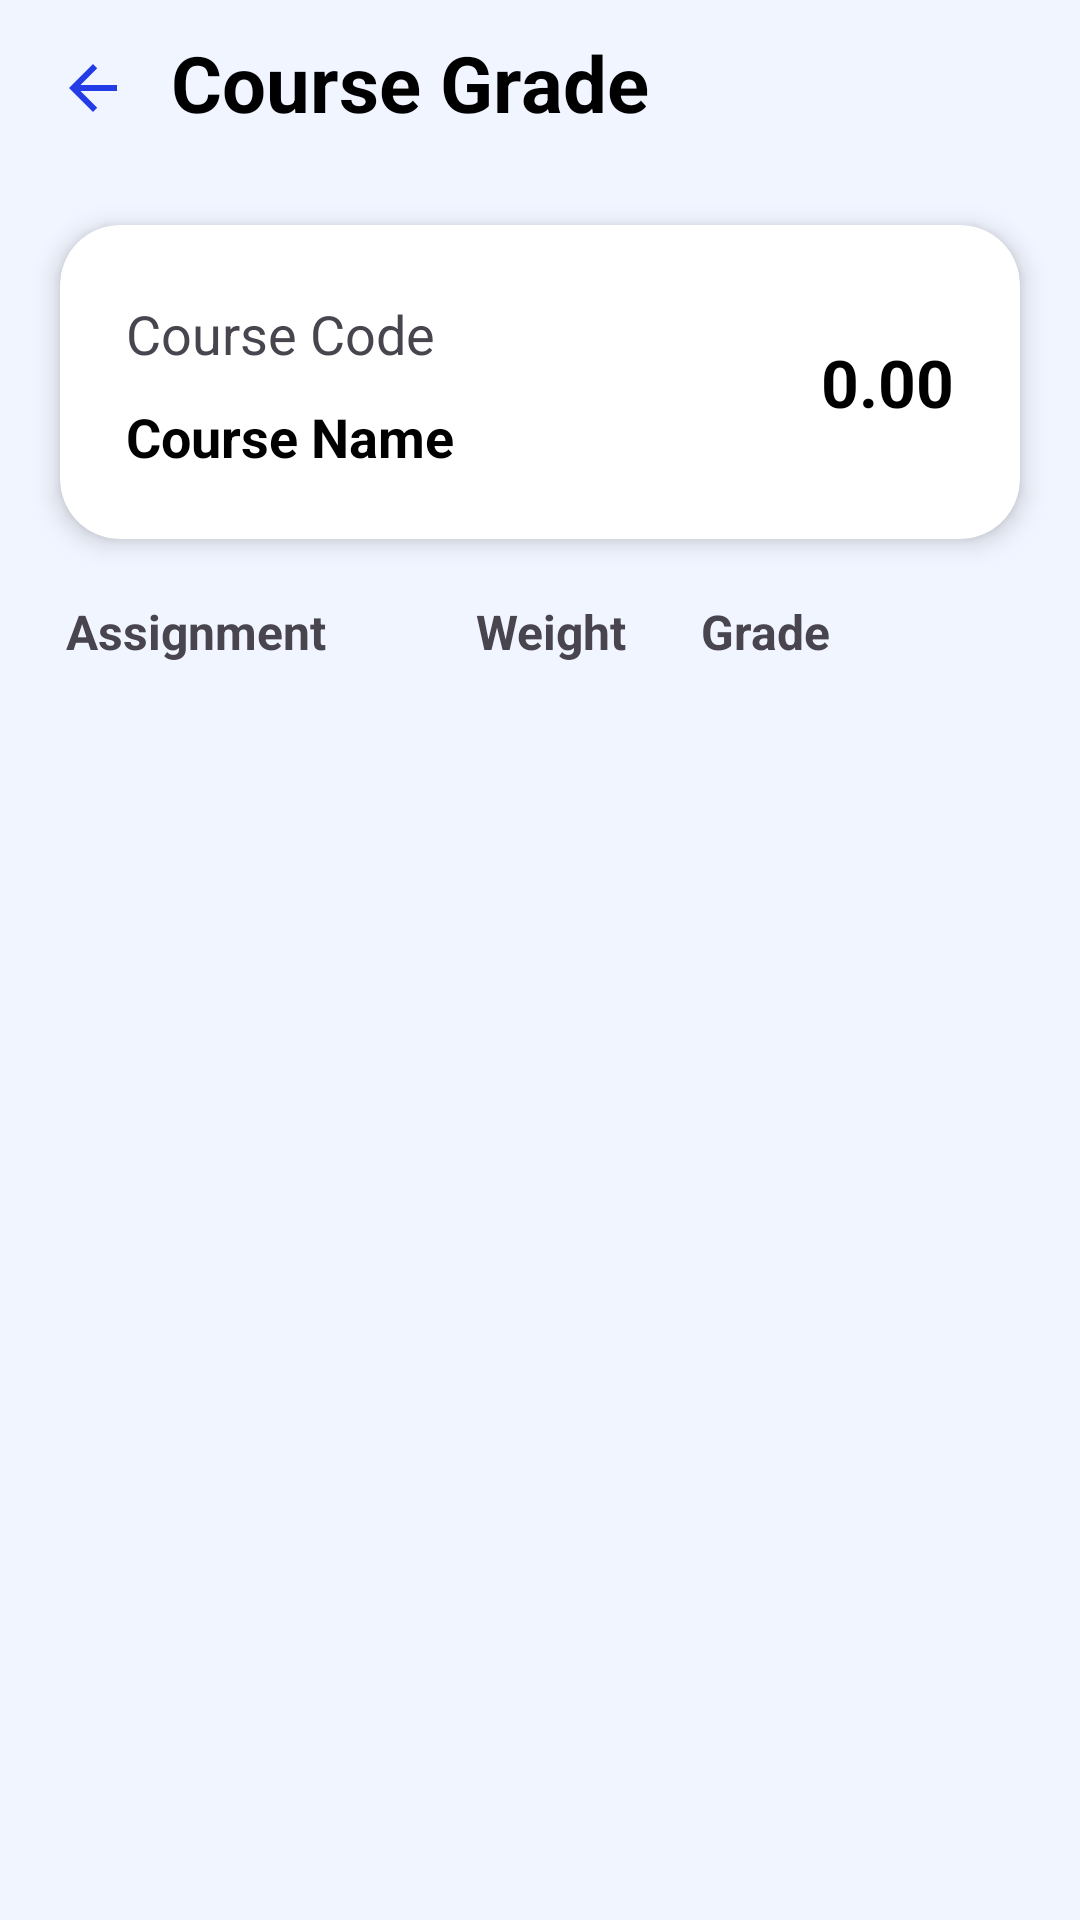

Point at icon controls on the screen. Image size 1080w x 1920h, points as [x,y].
arrow back: [93,88]
